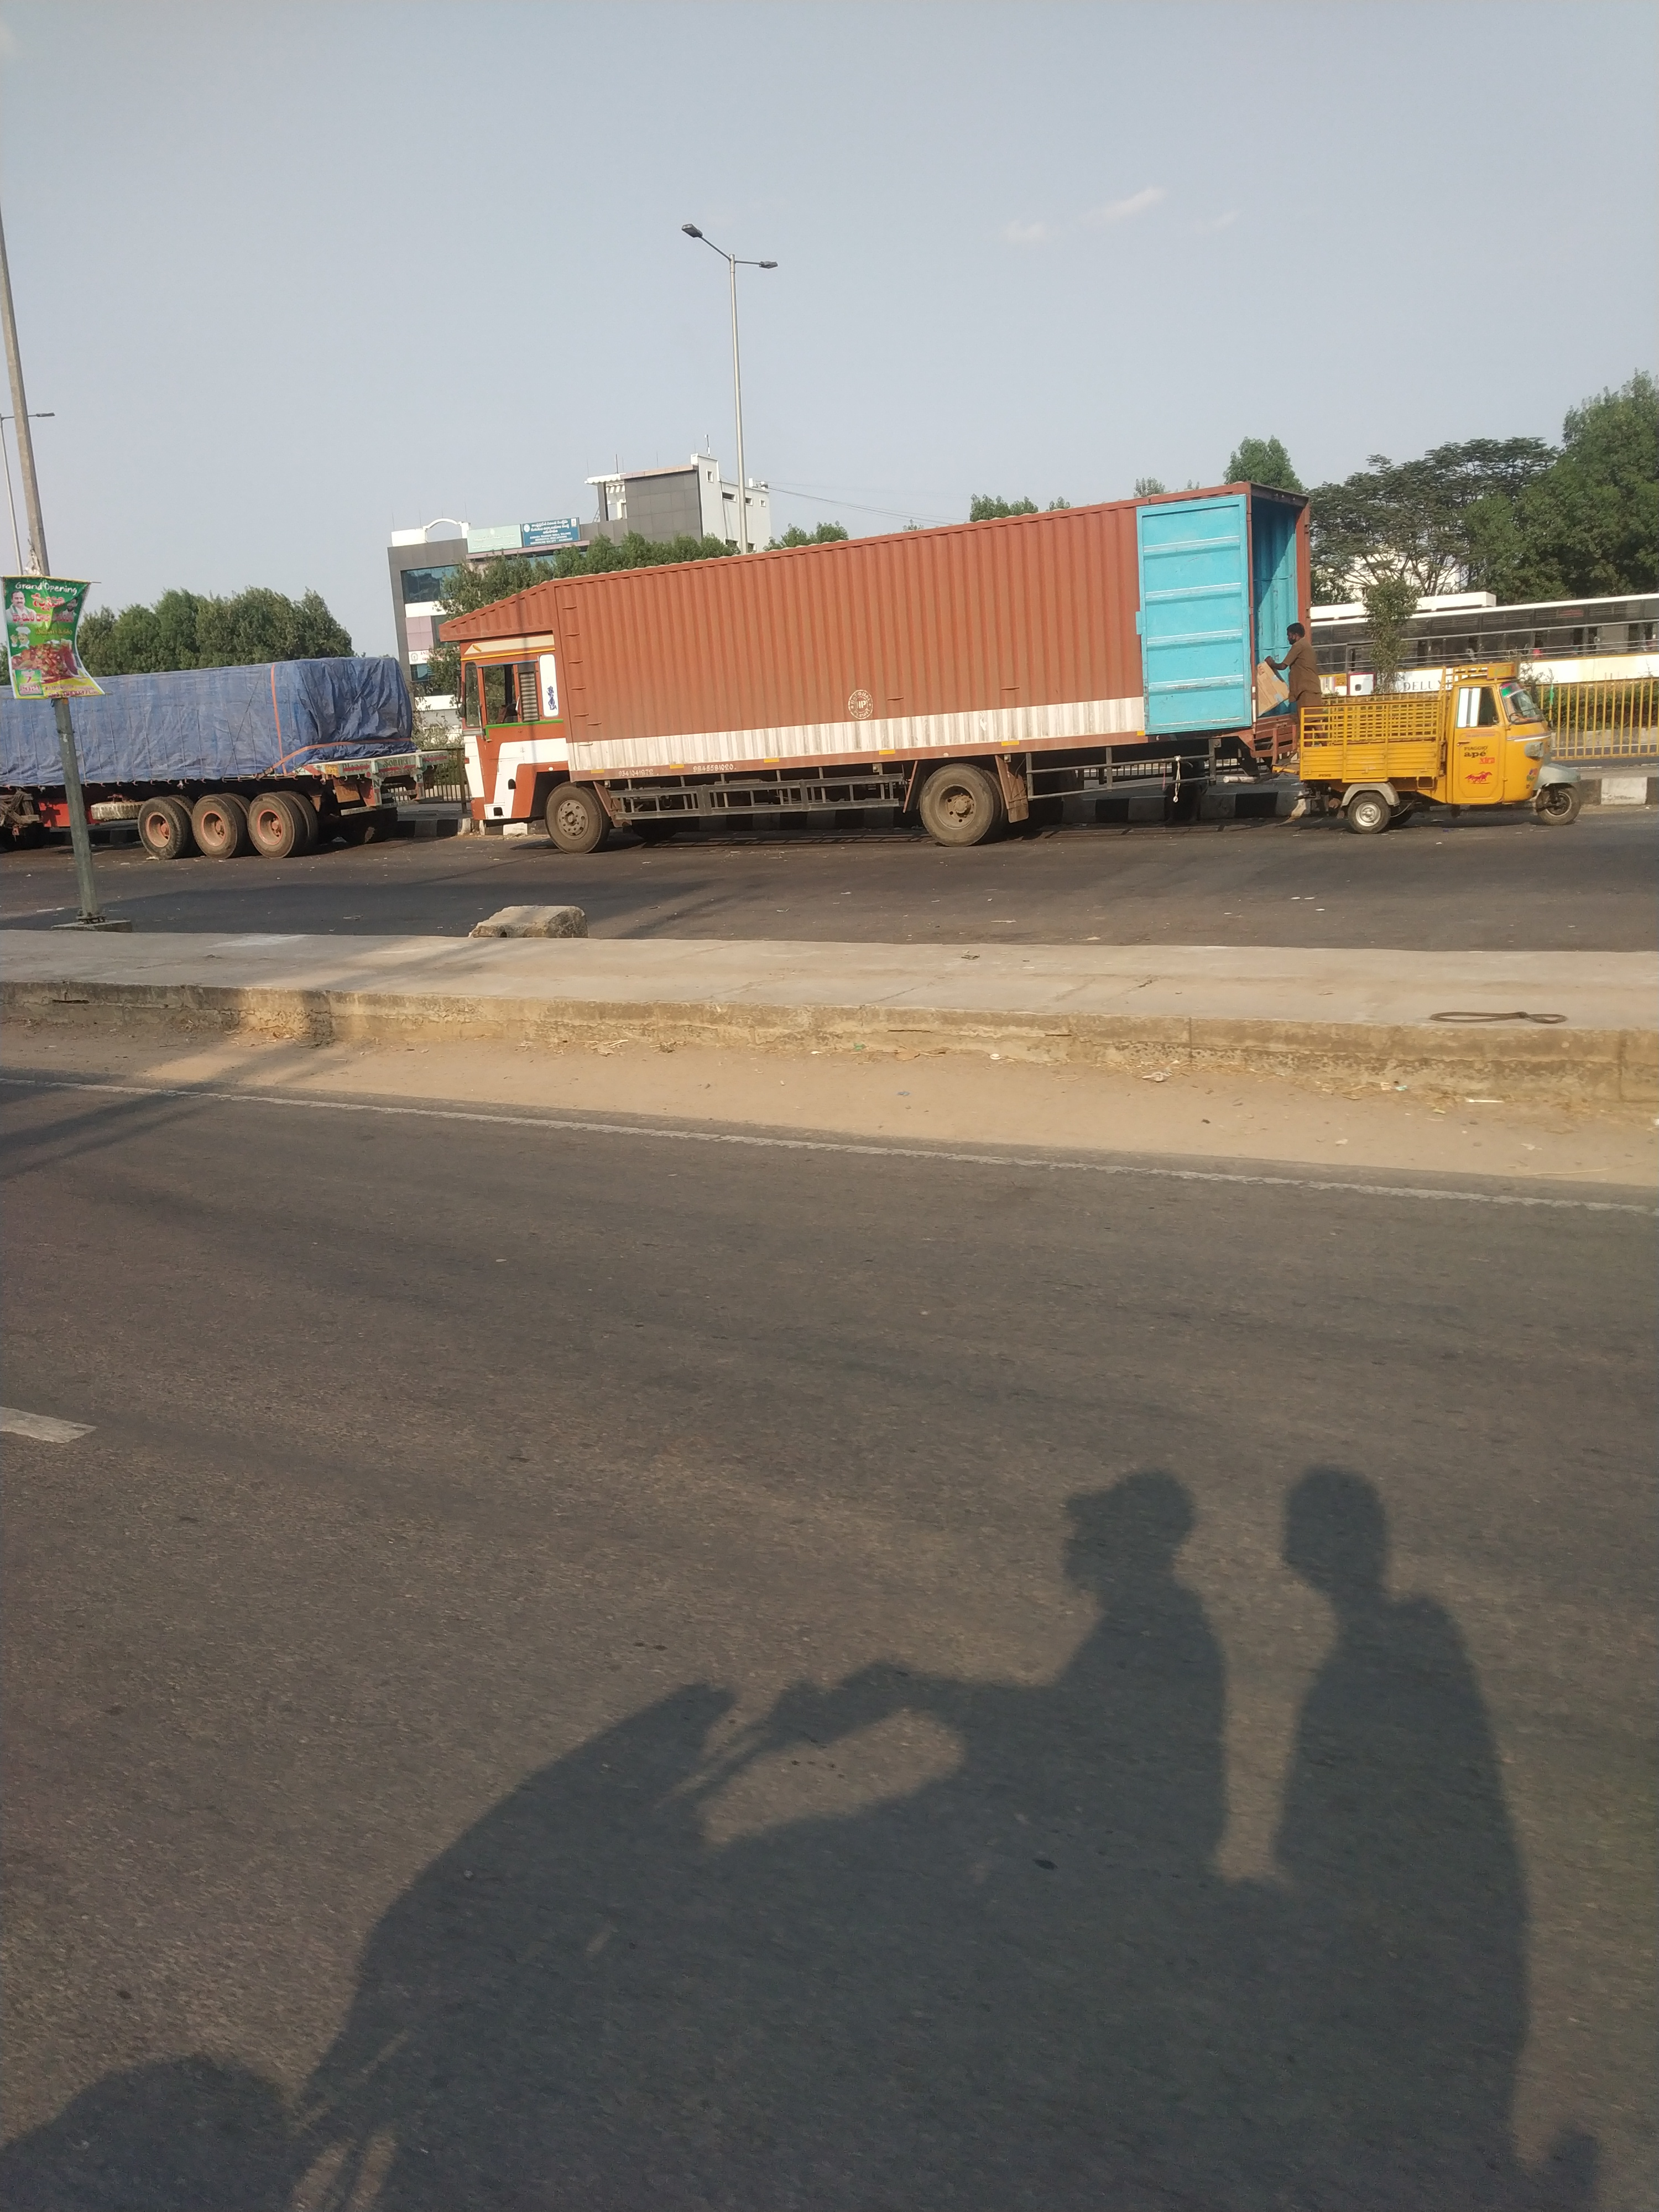truck: (436, 475, 1316, 859), (2, 653, 453, 860)
